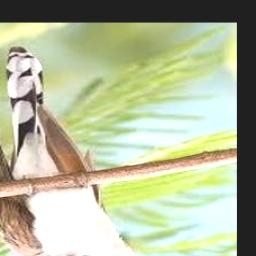Cuckoo: (0, 47, 162, 256)
